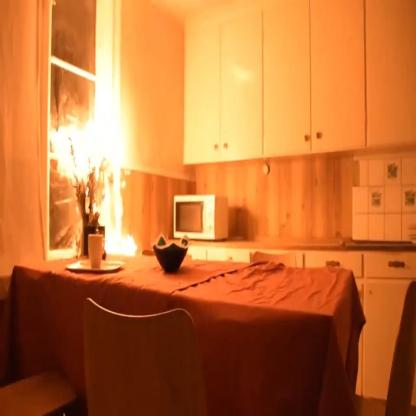fire: (51, 114, 139, 180), (95, 158, 140, 259)
